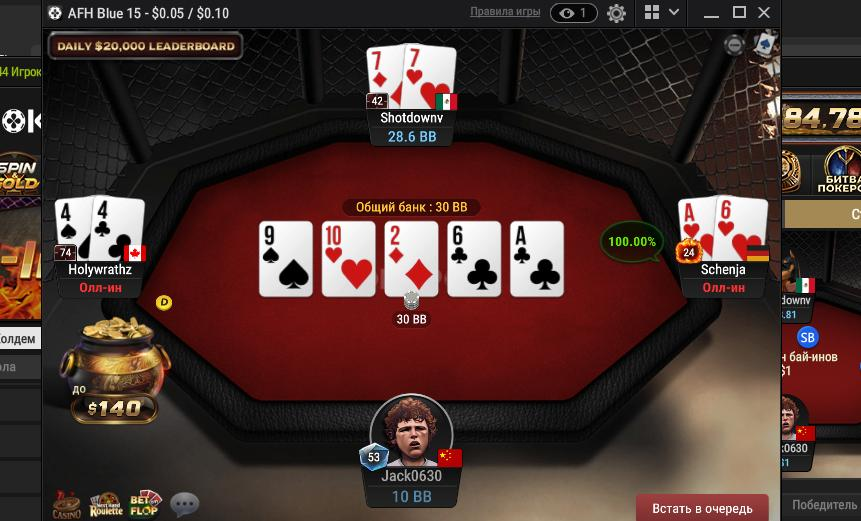10h: (323, 222, 375, 295)
2d: (386, 221, 439, 296)
4c: (91, 194, 144, 261)
4s: (53, 196, 91, 261)
6c: (447, 222, 501, 294)
6h: (716, 193, 768, 261)
7d: (366, 44, 404, 109)
7h: (404, 41, 456, 111)
9s: (259, 222, 313, 296)
Ac: (511, 221, 564, 296)
Ah: (678, 197, 714, 262)
